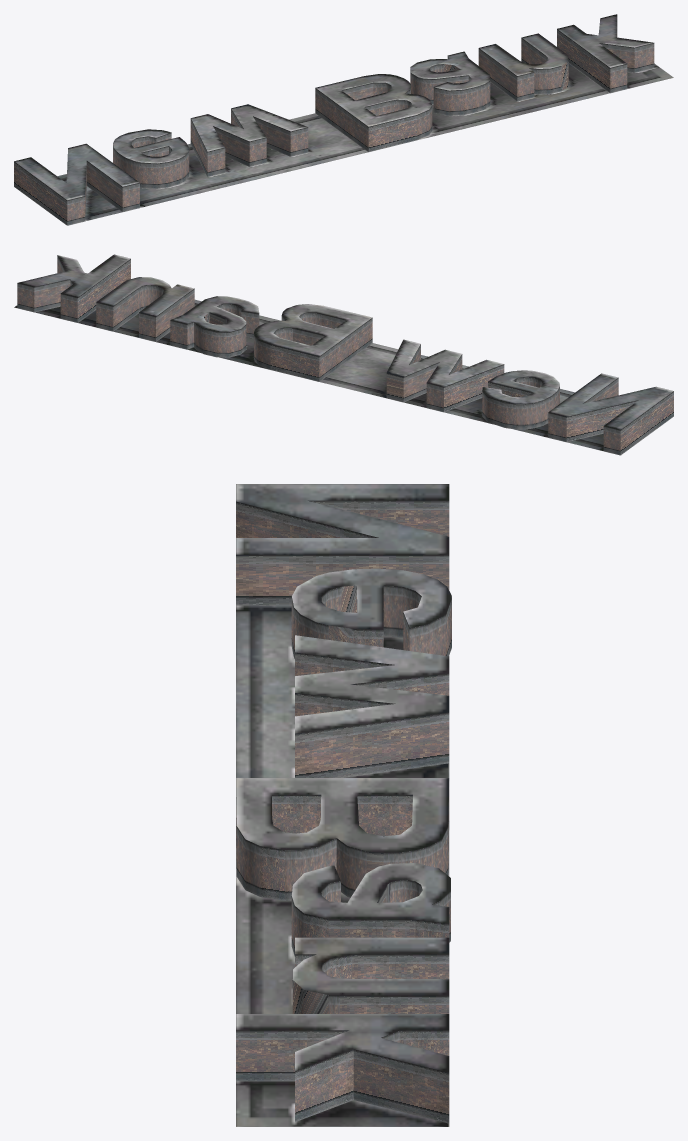
The model's file is new_bank.fbx.
3 renders of one model, top to bottom at view 1: azimuth 30°, elevation 25°; view 2: azimuth 150°, elevation 25°; view 3: azimuth 270°, elevation 25°, orthographic. The views are drawn at different scales.
Parts seen in each view (by area): view 1: mesh_0, mesh_1; view 2: mesh_1, mesh_0; view 3: mesh_0, mesh_1.
Boxes of the visible parts, box(x1,y1,x2,y2) form: mesh_0: box(14, 14, 673, 221); mesh_1: box(14, 28, 654, 225); mesh_1: box(17, 255, 673, 455); mesh_0: box(14, 254, 673, 451); mesh_0: box(236, 484, 451, 1126); mesh_1: box(236, 500, 451, 1123).
Size of the model in its own units: 747 by 29.99 by 115.
Materials: 2 (2 with a texture image).
